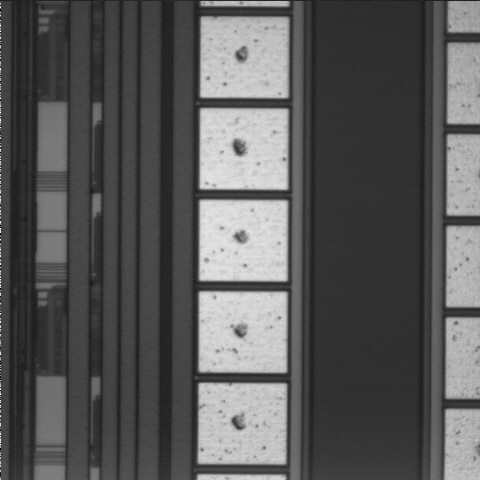pad: (198, 383, 286, 464), (200, 200, 287, 281), (200, 109, 288, 189), (199, 292, 287, 372), (201, 18, 288, 98)
